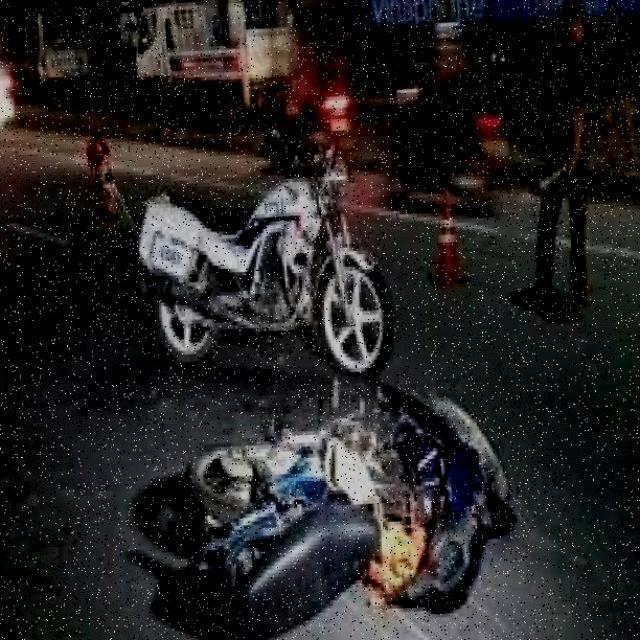accident: (162, 373, 530, 640)
